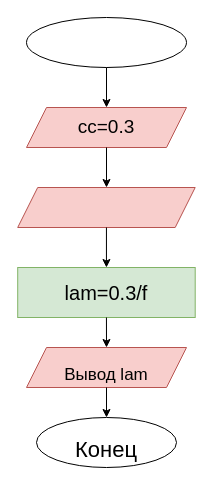
Image size: 213x485. Some labels were removed from this diagram. Each missing label, with the box of its shape:
Ввод f: (17, 186, 195, 228)
Начало: (26, 16, 186, 68)
